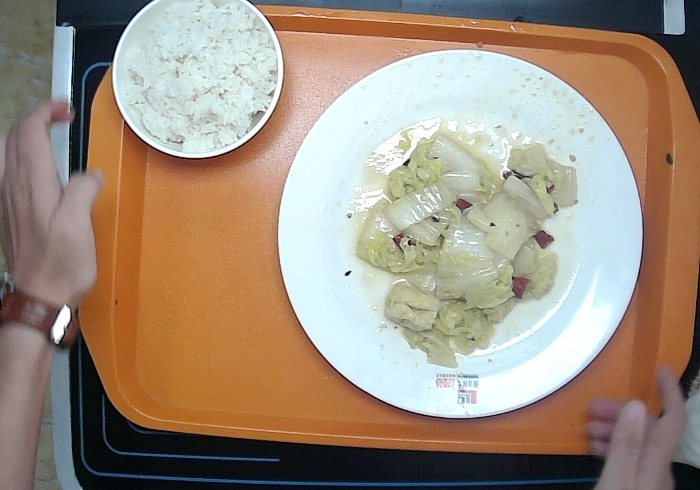ZNLD-Da_Yuan_Pan: (273, 46, 647, 424)
